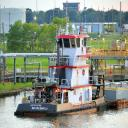tugboat: (13, 23, 109, 120)
